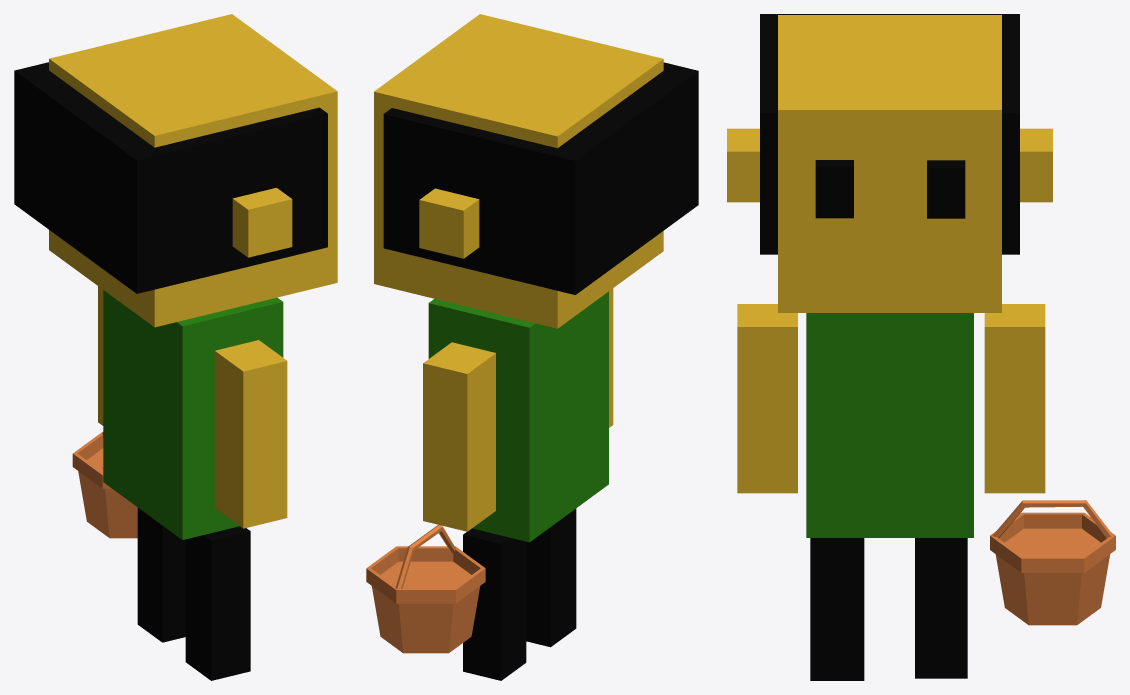
The model's file is Chara-H-buissons-Projecthappiness.fbx.
3 views of the same model, side by side, from view 1: azimuth 30°, elevation 25°; view 2: azimuth 150°, elevation 25°; view 3: azimuth 270°, elevation 25° (orthographic). The views are drawn at different scales.
Parts seen in each view (by area): view 1: Cube.058; view 2: Cube.058; view 3: Cube.058.
Part boxes in pixels (<box>): Cube.058: <box>14,14,337,680</box>; Cube.058: <box>366,14,698,680</box>; Cube.058: <box>727,14,1115,680</box>.
Size of the model in its own units: 69.31 by 170 by 98.31.
